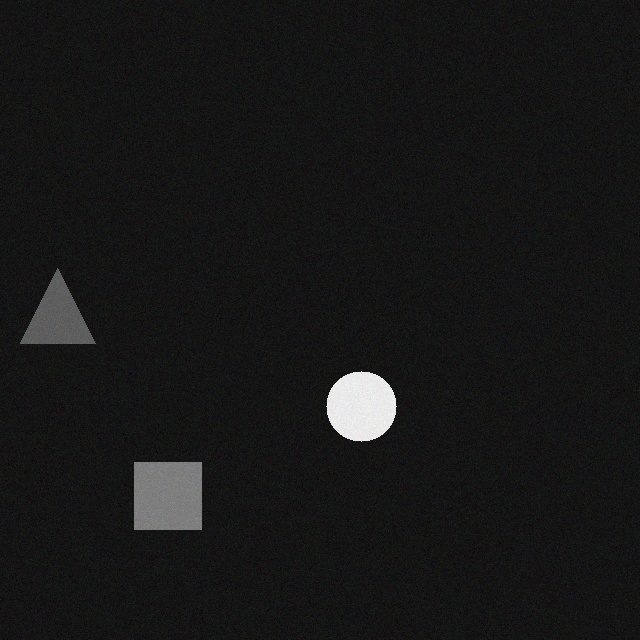circle: (321, 358, 391, 428)
square: (129, 449, 196, 516)
triangle: (15, 255, 90, 330)
